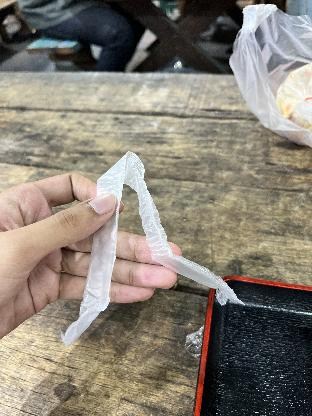Others: (60, 150, 244, 352), (229, 0, 312, 154)
